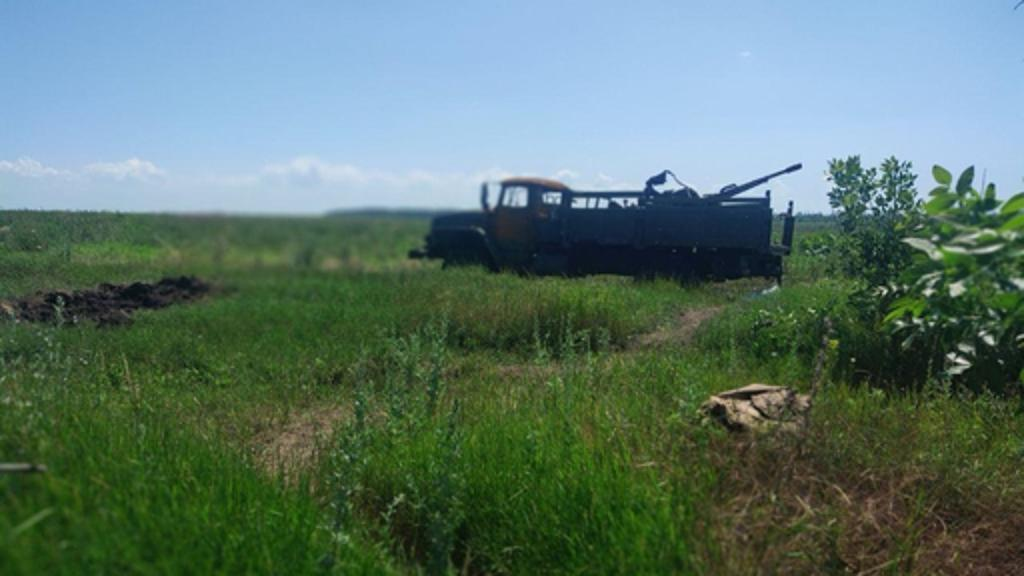TRUCK: (402, 166, 800, 300)
